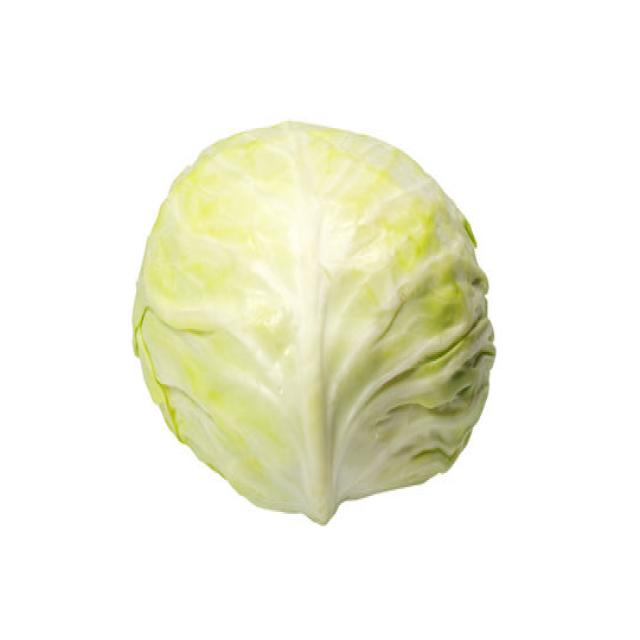Cabbage: (130, 118, 496, 526)
